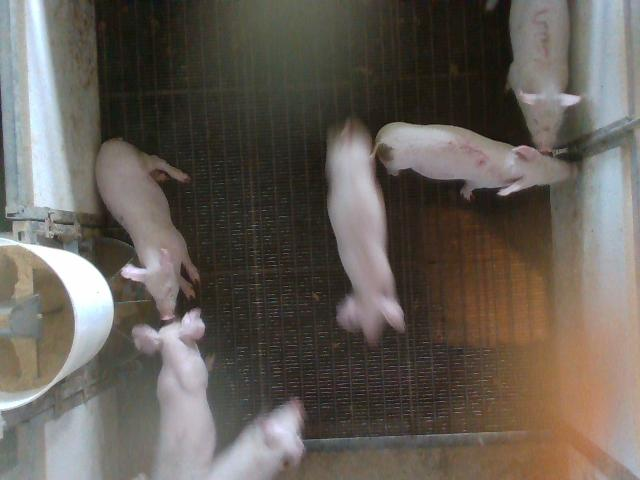pig-3: (508, 0, 581, 153)
pig-5: (374, 122, 574, 198)
